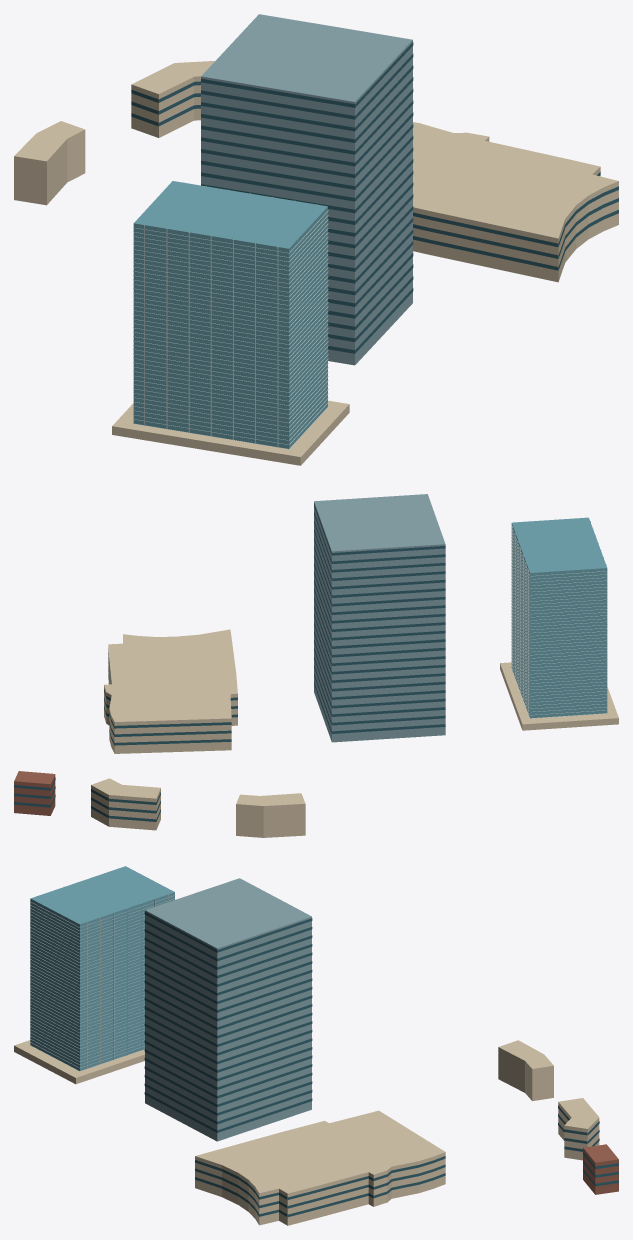
File: city_3_2.glb
3 renders of one model, top to bottom at view 1: azimuth 30°, elevation 25°; view 2: azimuth 150°, elevation 25°; view 3: azimuth 270°, elevation 25°, orthographic. The views are drawn at different scales.
Visible parts, largest first — view 1: city_3_2; view 2: city_3_2; view 3: city_3_2.
Part boxes in pixels (x1,y1,x2,y2): city_3_2: (14,14,618,465); city_3_2: (14,494,618,837); city_3_2: (14,866,618,1225).
Bounding box in the file's own units: 213 × 90 × 256.
